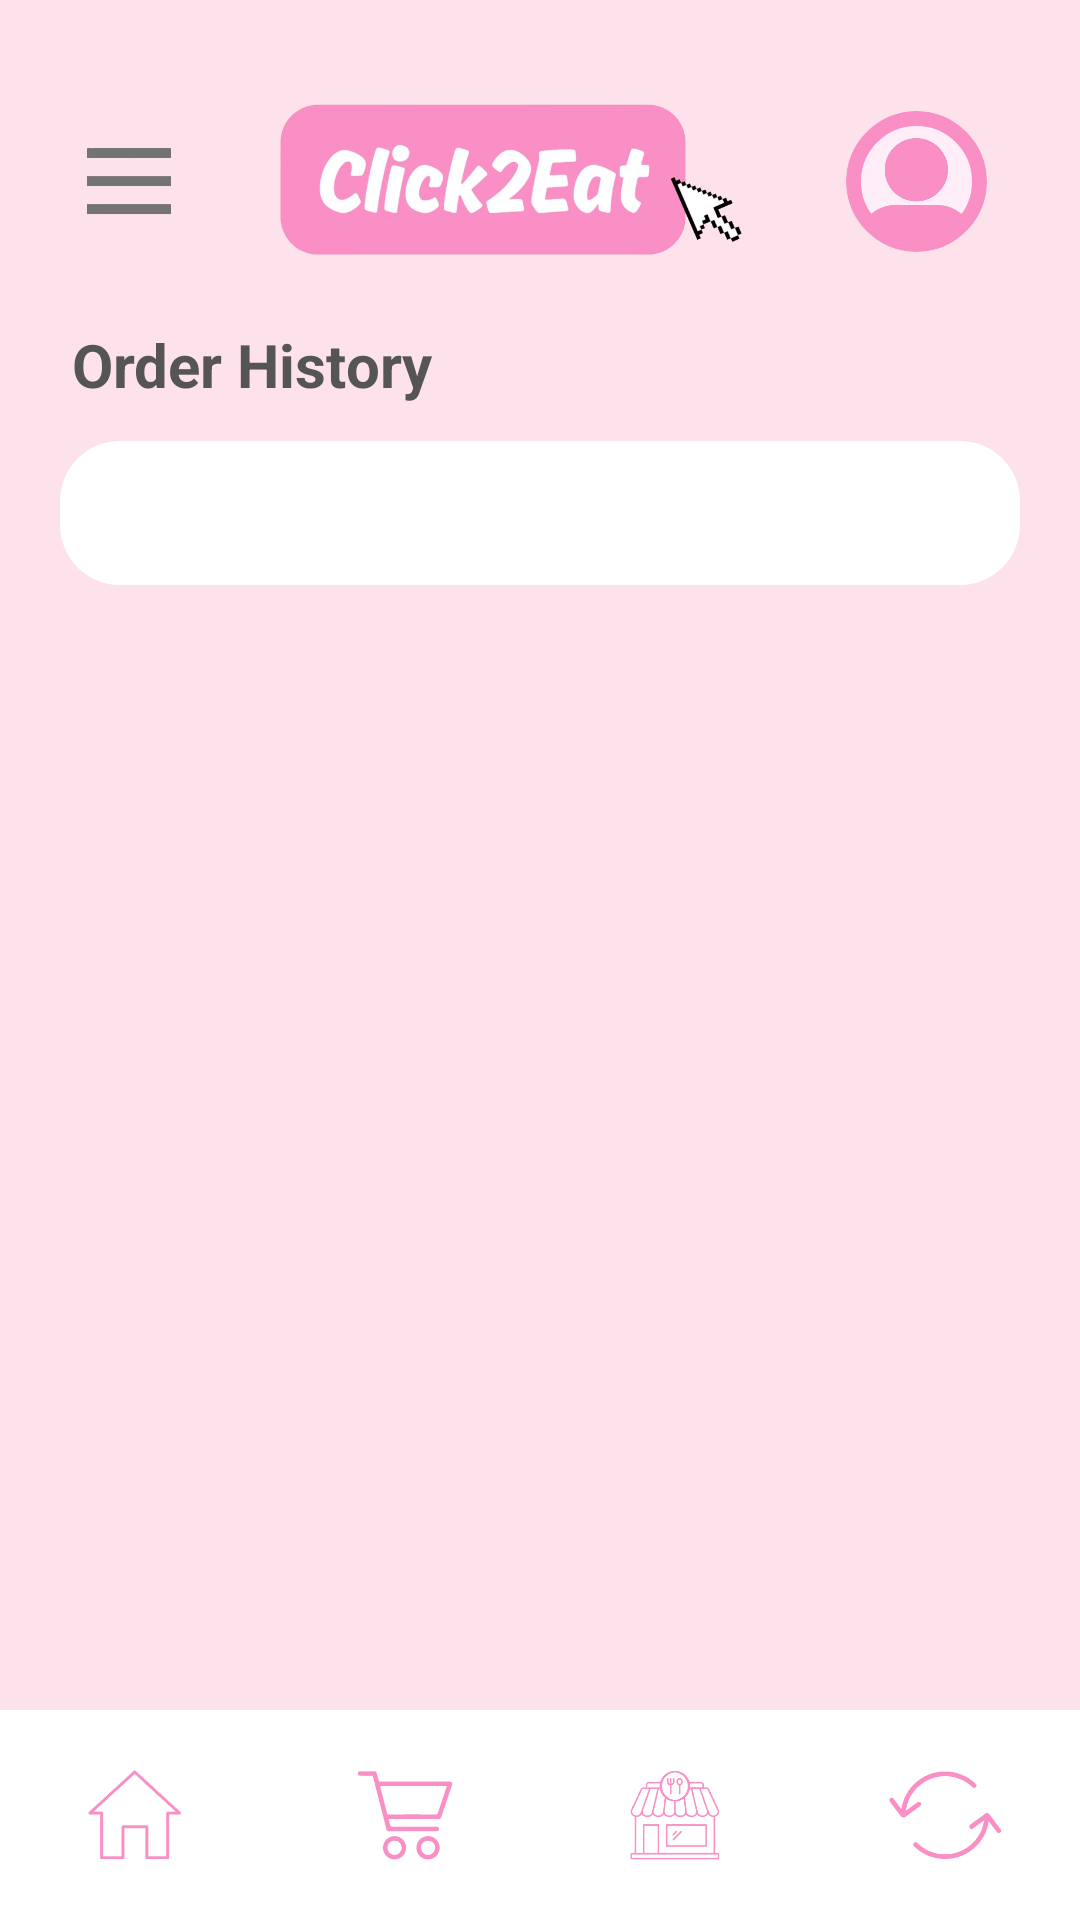

Named icons in this screenshot (1080px×1920px) and their centers, (x=x, y=y):
Cart: (x=405, y=1815)
Home: (x=134, y=1814)
Menu: (x=129, y=181)
Open profile: (x=916, y=181)
Restaurants: (x=674, y=1815)
